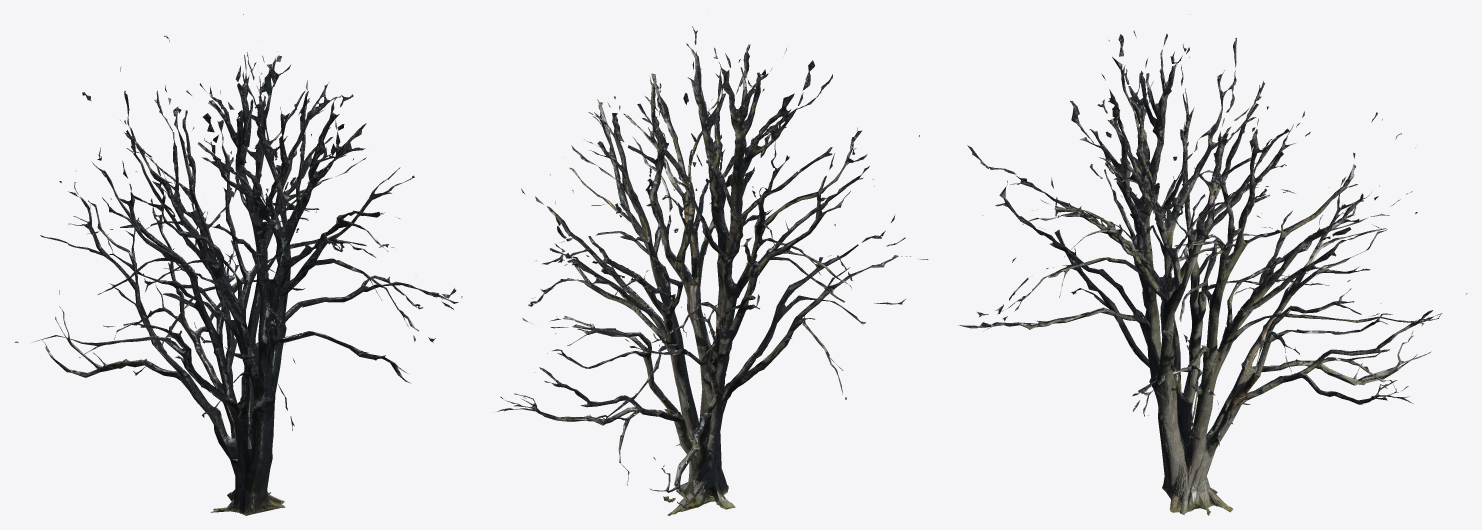
The model's file is tree.glb.
The picture shows the model from 3 angles, left to right: view 1: azimuth 30°, elevation 25°; view 2: azimuth 150°, elevation 25°; view 3: azimuth 270°, elevation 25°; orthographic projection. The views are drawn at different scales.
Visible parts, largest first — view 1: Object_2, Object_3, Object_4; view 2: Object_2, Object_3, Object_4; view 3: Object_3, Object_2, Object_4.
Part boxes in pixels (bbox=[...]): Object_2: bbox=[86, 35, 462, 515]; Object_3: bbox=[15, 14, 435, 507]; Object_4: bbox=[42, 52, 414, 494]; Object_2: bbox=[497, 44, 825, 509]; Object_3: bbox=[651, 26, 928, 514]; Object_4: bbox=[615, 73, 696, 515]; Object_3: bbox=[959, 30, 1386, 514]; Object_2: bbox=[1002, 49, 1467, 512]; Object_4: bbox=[1078, 85, 1431, 515].
Size of the model in its own units: 4.12 by 5.15 by 4.88.
Materials: 1 (1 with a texture image).
